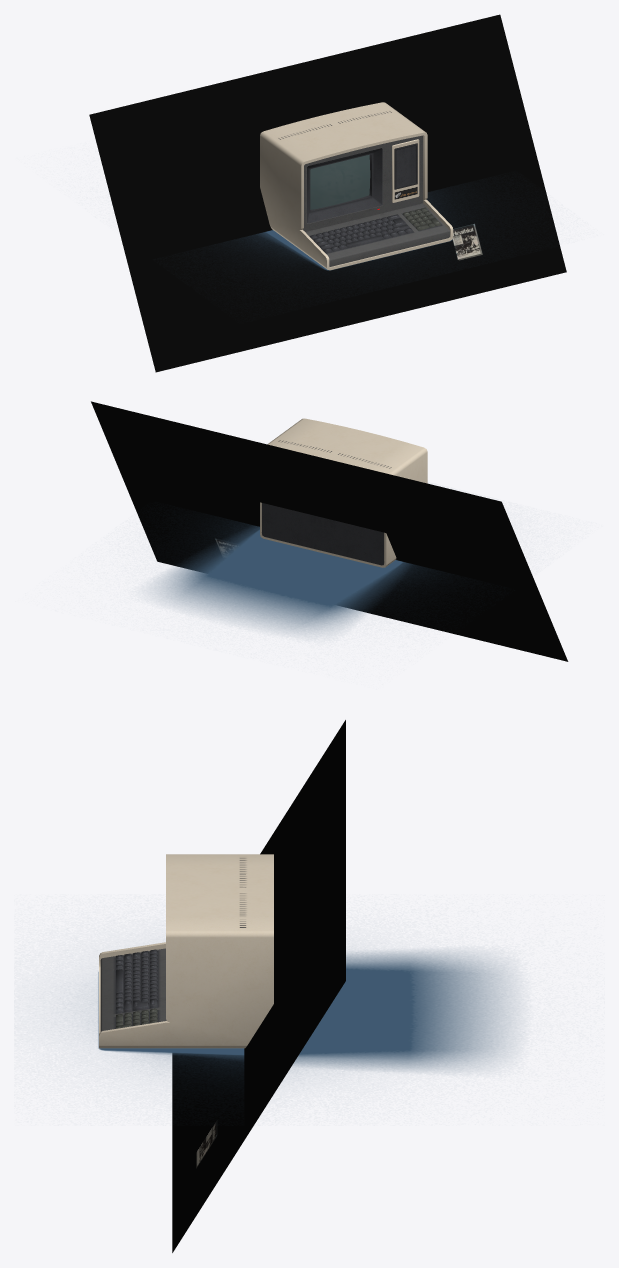
File: computer_terminal.glb
3 renders of one model, top to bottom at view 1: azimuth 30°, elevation 25°; view 2: azimuth 150°, elevation 25°; view 3: azimuth 270°, elevation 25°, orthographic. The views are drawn at different scales.
Visible parts, largest first — view 1: Plane, Comp_Screen.002, Comp_Screen.000; view 2: Plane, Comp_Screen.002; view 3: Plane, Comp_Screen.002, Comp_Screen.000.
Boxes of the visible parts, <box> form: Plane: <box>89,14,566,372</box>; Comp_Screen.002: <box>260,102,453,270</box>; Comp_Screen.000: <box>310,207,441,253</box>; Plane: <box>91,401,568,661</box>; Comp_Screen.002: <box>260,418,427,567</box>; Plane: <box>82,720,519,1252</box>; Comp_Screen.002: <box>99,854,273,1048</box>; Comp_Screen.000: <box>116,949,157,1028</box>.
Size of the model in its own units: 5.08 by 2.47 by 4.84.
Materials: 3 (3 with a texture image).
